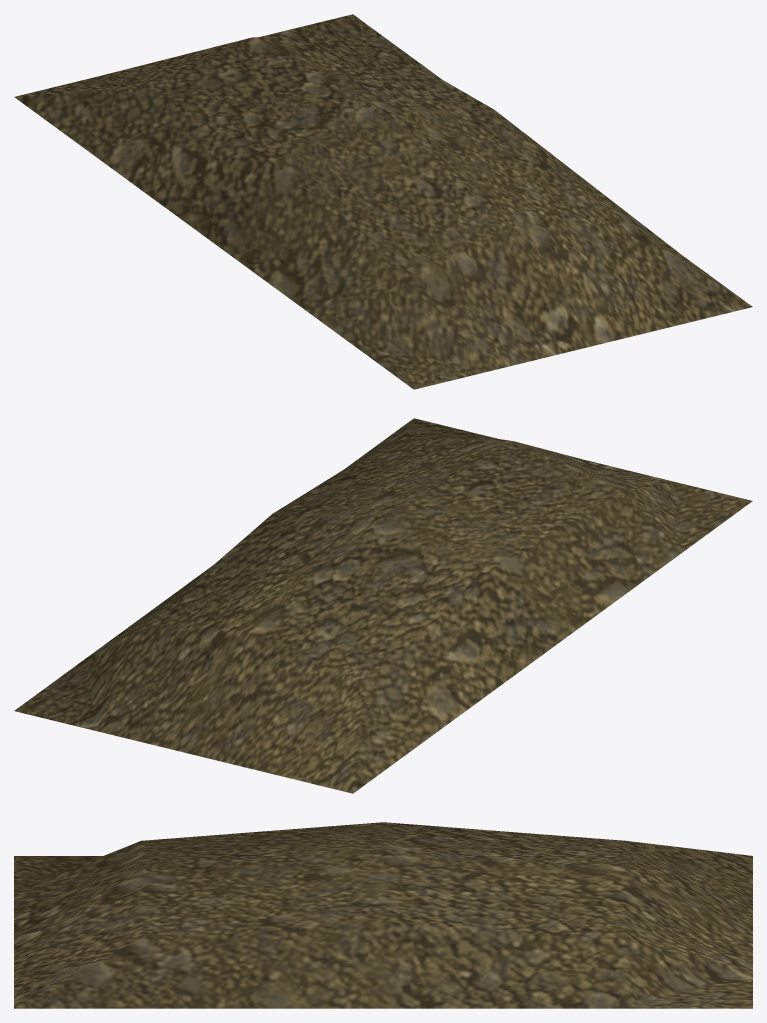
Rendered from Stele04.FBX.
The picture shows the model from 3 angles, top to bottom: view 1: azimuth 30°, elevation 25°; view 2: azimuth 150°, elevation 25°; view 3: azimuth 270°, elevation 25°; orthographic projection. The views are drawn at different scales.
Parts seen in each view (by area): view 1: Stele04; view 2: Stele04; view 3: Stele04.
Part boxes in pixels (<box>): Stele04: <box>14,14,752,389</box>; Stele04: <box>14,418,752,793</box>; Stele04: <box>14,822,752,1008</box>.
Bounding box in the file's own units: 14.26 × 3.57 × 29.14.
